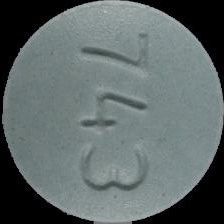0603-7642: (0, 0, 224, 224)
